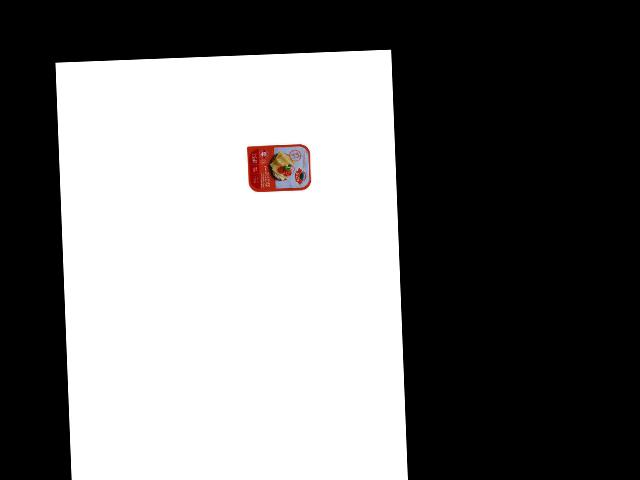cheese: (243, 142, 313, 195)
